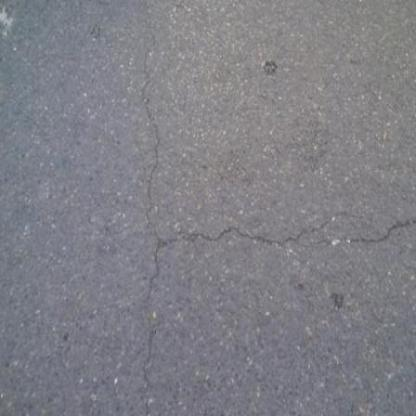Cracks: (122, 2, 179, 416), (167, 211, 416, 259)
